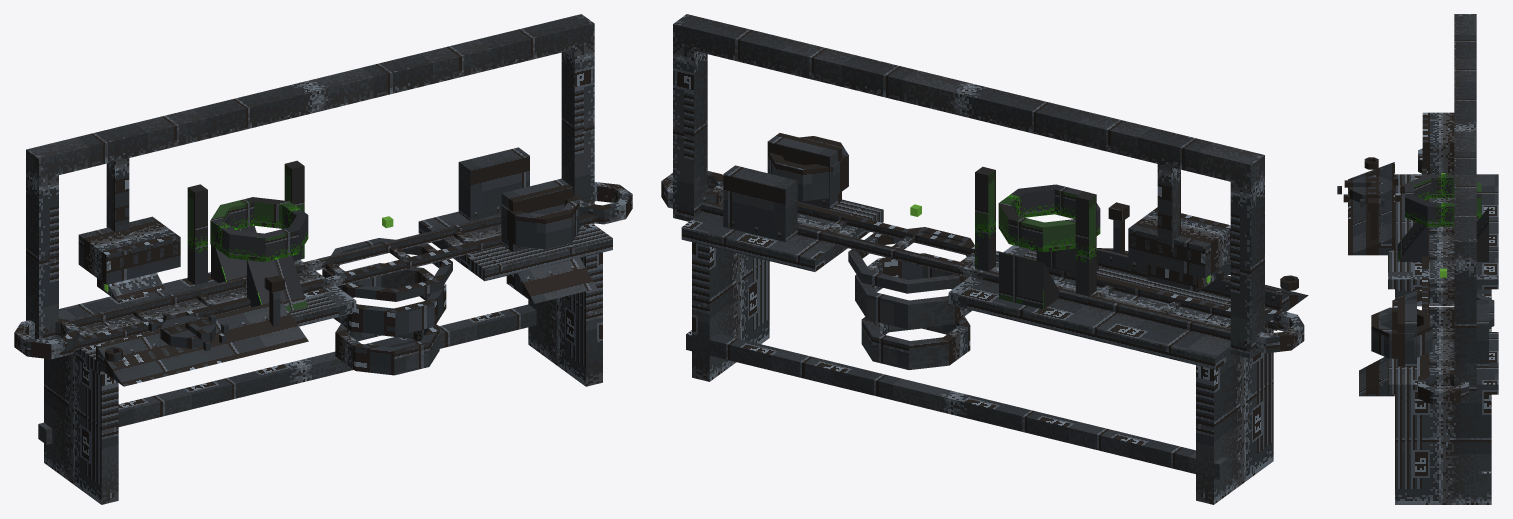
Rendered from forge_bench.glb.
The picture shows the model from 3 angles, left to right: view 1: azimuth 30°, elevation 25°; view 2: azimuth 150°, elevation 25°; view 3: azimuth 270°, elevation 25°; orthographic projection. The views are drawn at different scales.
Parts seen in each view (by area): view 1: forge_bench; view 2: forge_bench; view 3: forge_bench.
Boxes of the visible parts, x1,y1,x2,y2 form: forge_bench: [14, 14, 632, 504]; forge_bench: [661, 14, 1308, 504]; forge_bench: [1337, 14, 1498, 504].
Bounding box in the file's own units: 4.25 × 2.19 × 1.17.
4 materials, 3 textured.
